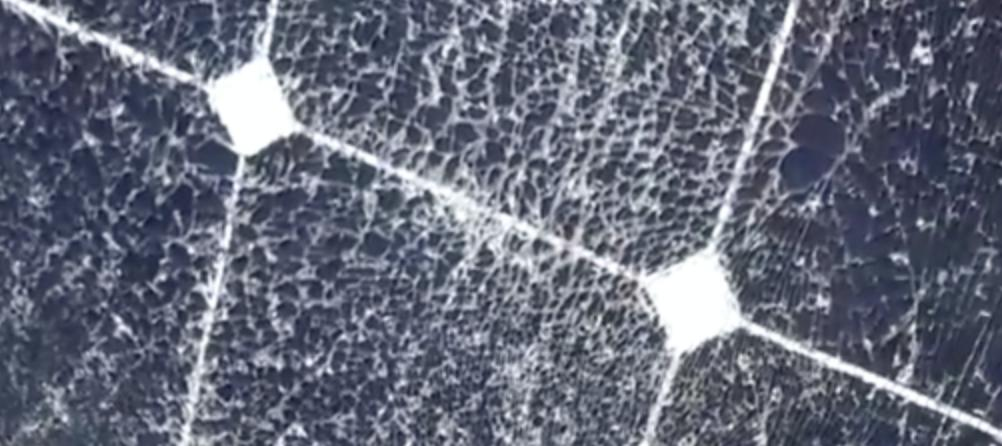Crack: (0, 3, 1002, 445)
